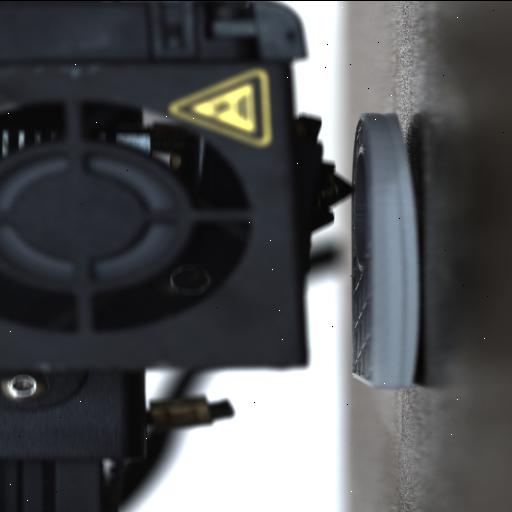warp: (393, 324, 426, 390)
